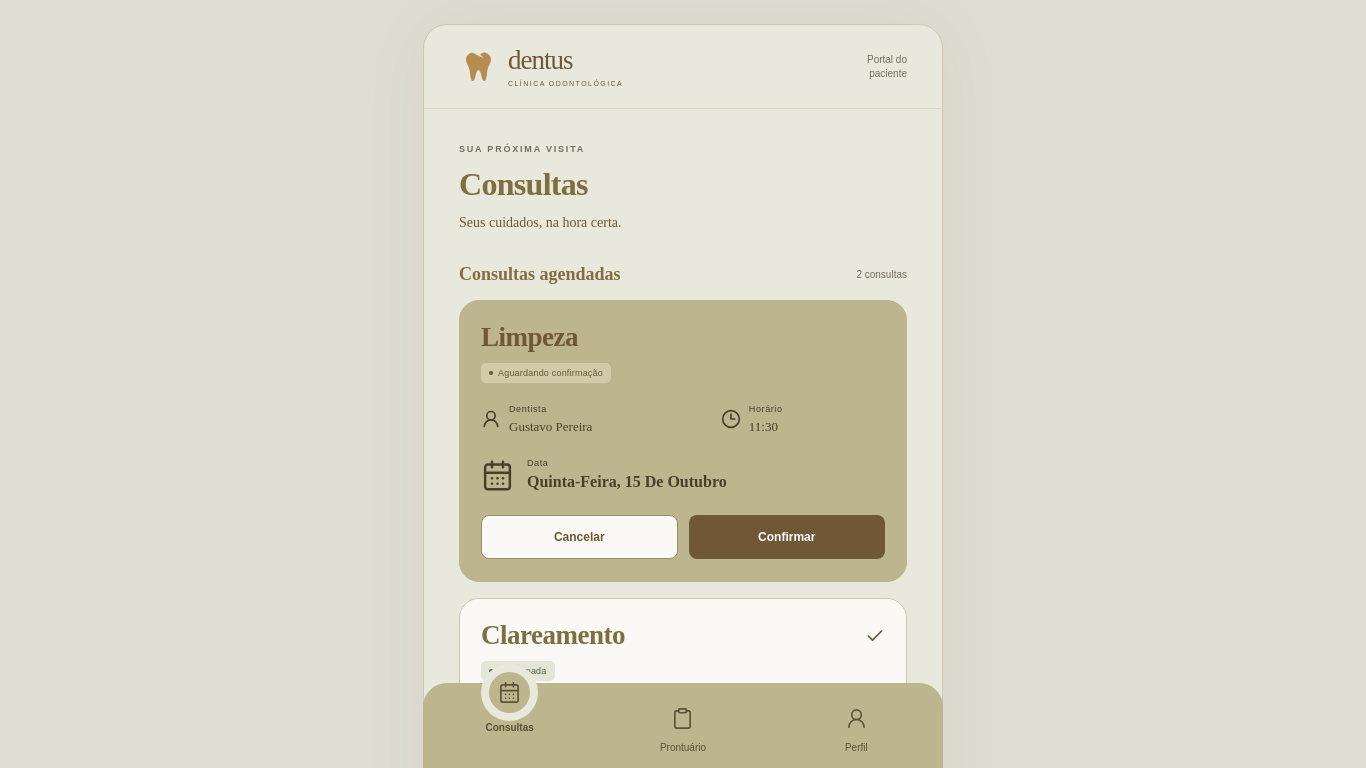
rejeição pelo servidor mantém consulta sem anunciar sucesso
The image size is (1366, 768).
Click the button "Cancelar" at (579, 538), box [481,516,678,560]
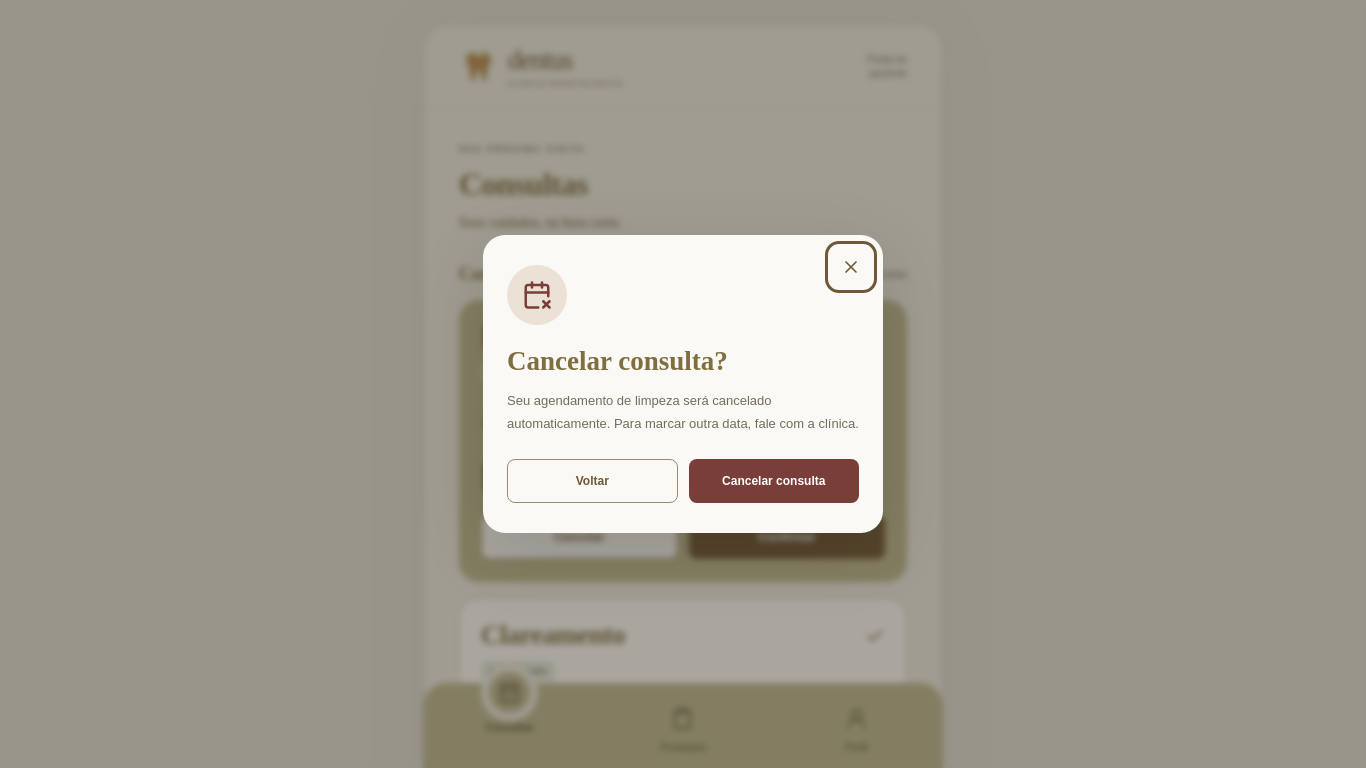
Click the button "Cancelar consulta" at (774, 481), box [688,459,859,503]
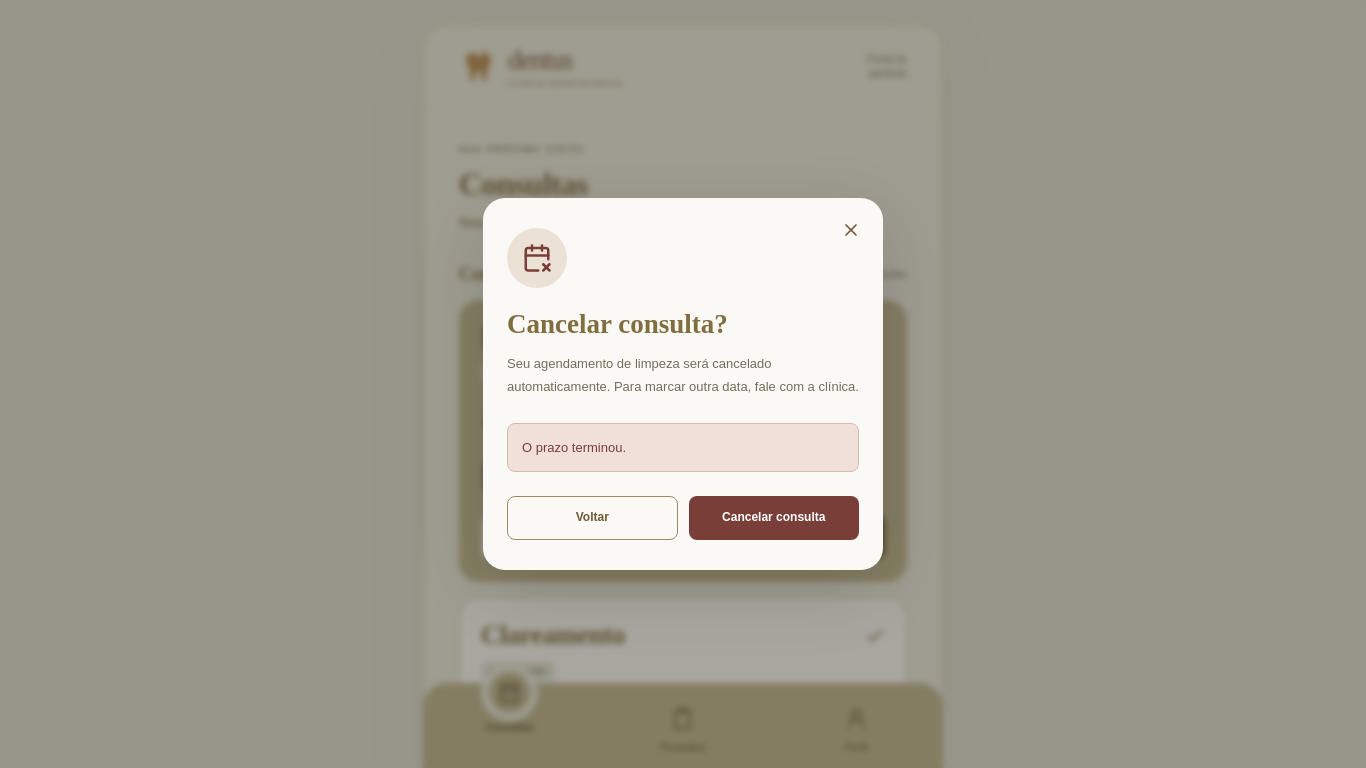
Check: the text "Aguardando confirmação" is shown, box [481,363,611,383]
Check: the message reads "O prazo terminou.", box [522,440,626,455]
